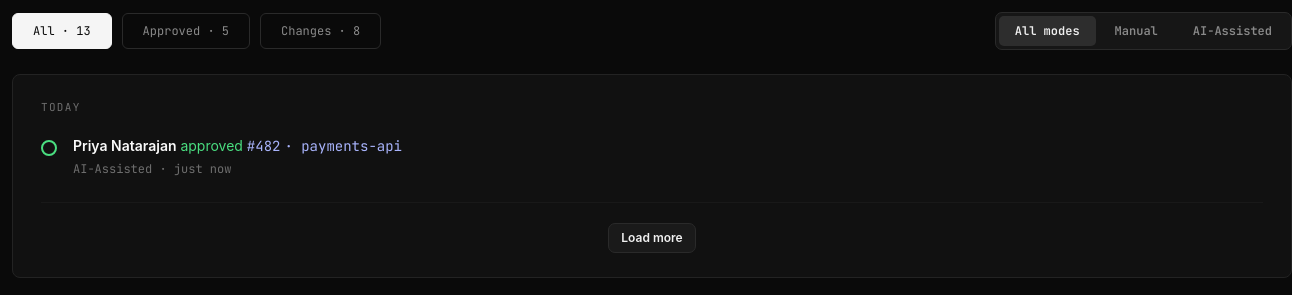
ActivityView › shows tab counts from page 1 and loads more with the BE cursor
Expected: the button "All · 13" is shown, [12,13,112,49]
Expected: the button "Approved · 5" is shown, [122,13,250,49]
Step 1. Click the button "Load more" → [652, 238], box [608,223,696,253]
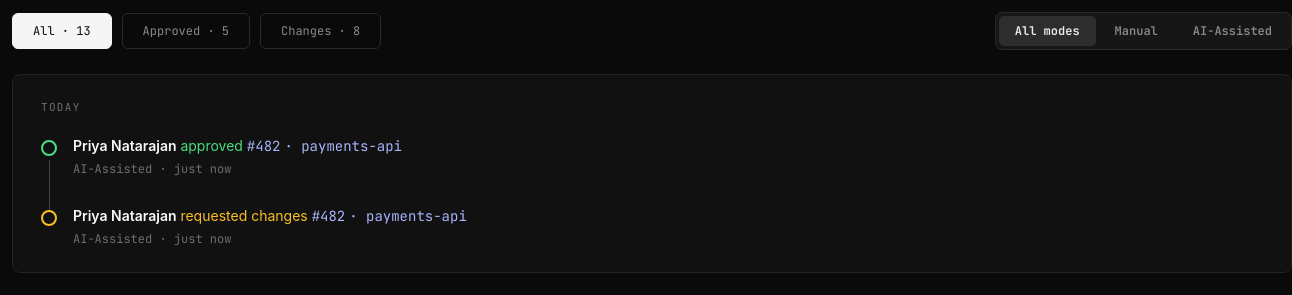
Expected: the button "All · 13" is shown, [12,13,112,49]
Now the text "requested changes" is shown, box [180,207,308,224]
Now the button "Load more" is gone
